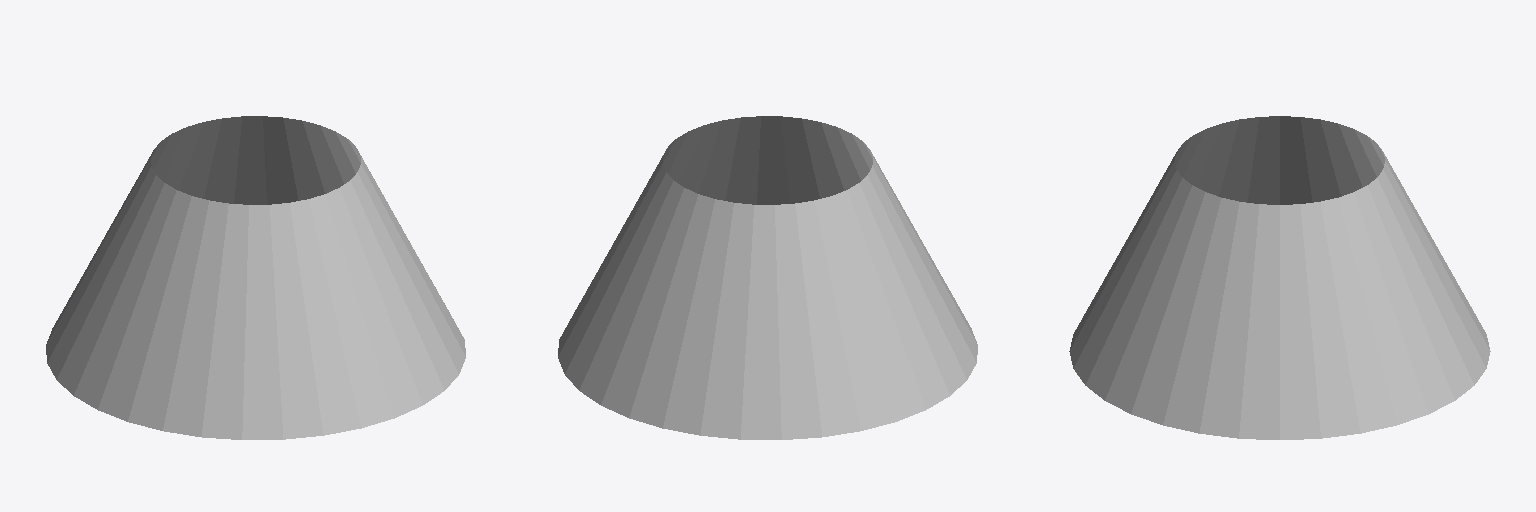
Rendered from skirt.obj.
3 renders of one model, left to right at view 1: azimuth 30°, elevation 25°; view 2: azimuth 150°, elevation 25°; view 3: azimuth 270°, elevation 25°, orthographic.
Parts seen in each view (by area): view 1: Cone; view 2: Cone; view 3: Cone.
Boxes of the visible parts, x1,y1,x2,y2 form: Cone: [46, 116, 465, 439]; Cone: [558, 116, 977, 439]; Cone: [1069, 116, 1490, 439].
Bounding box in the file's own units: 2 × 1 × 2.